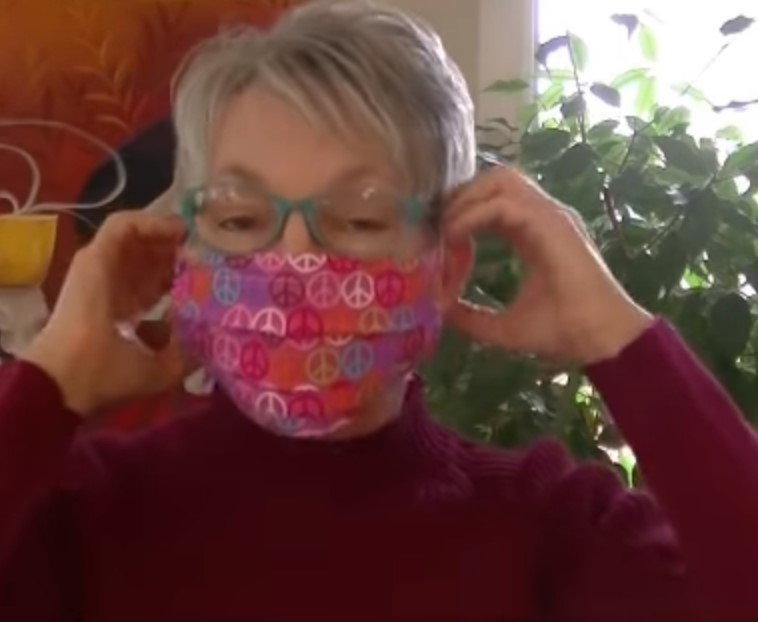face_with_mask: (163, 26, 480, 458)
